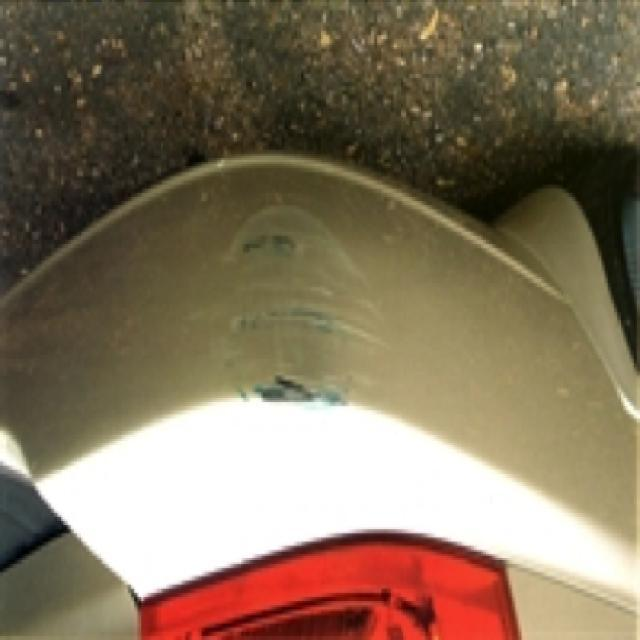scratch: (196, 193, 390, 429)
